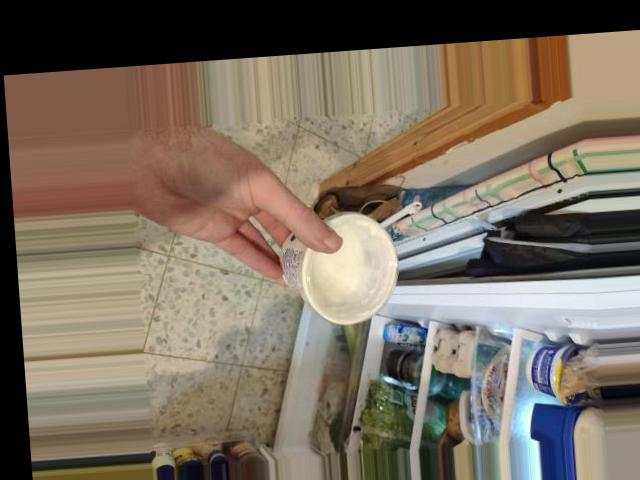cotage: (276, 204, 405, 308)
